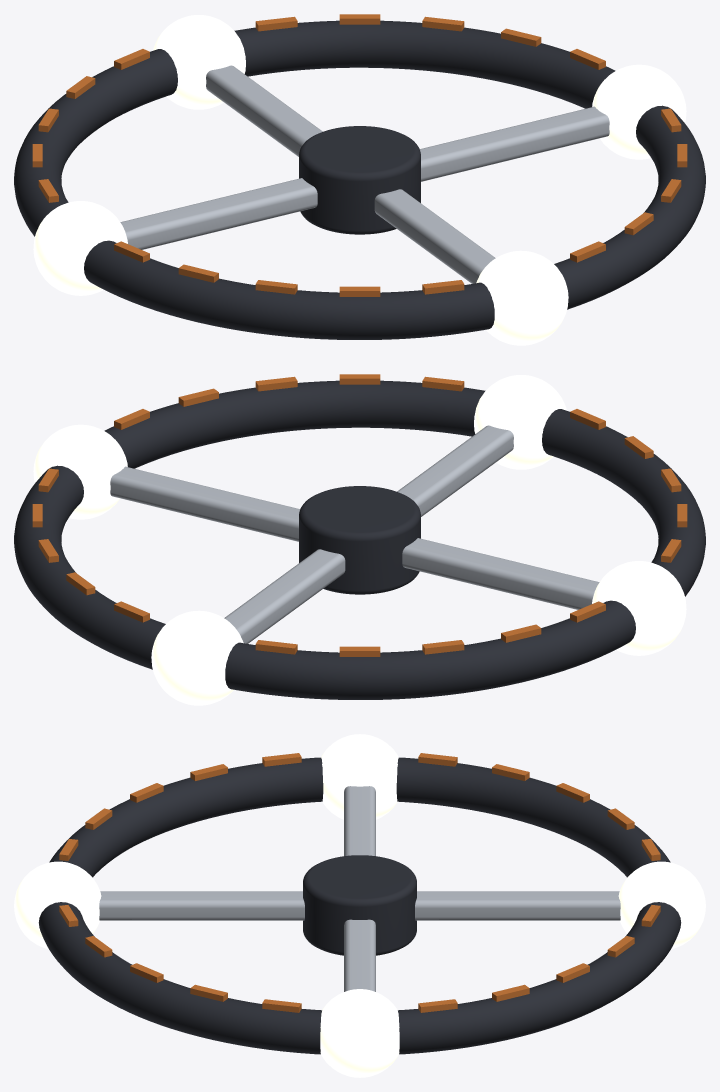
The model's file is handle.glb.
The picture shows the model from 3 angles, top to bottom: view 1: azimuth 30°, elevation 25°; view 2: azimuth 150°, elevation 25°; view 3: azimuth 270°, elevation 25°; orthographic projection. The views are drawn at different scales.
Parts seen in each view (by area): view 1: handle; view 2: handle; view 3: handle.
Boxes of the visible parts, x1,y1,x2,y2 form: handle: (14, 14, 705, 345); handle: (14, 374, 705, 705); handle: (14, 734, 705, 1077).
Size of the model in its own units: 2.18 by 0.28 by 2.18.
